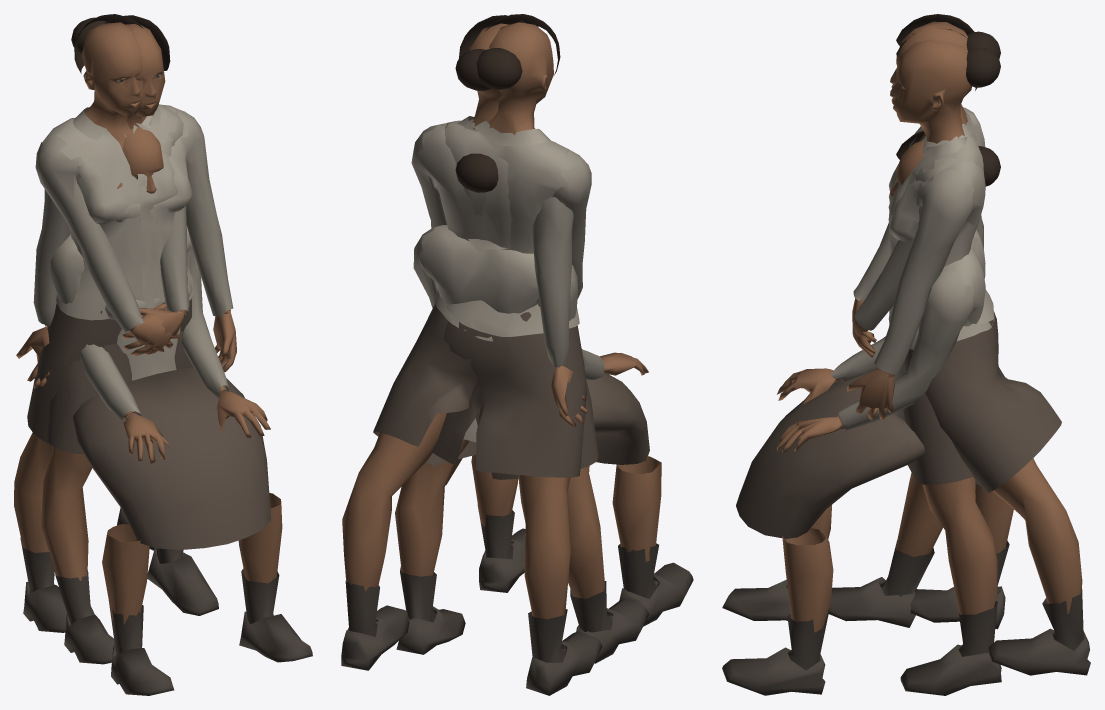
Rendered from crowd-08-crowd.glb.
The picture shows the model from 3 angles, left to right: view 1: azimuth 30°, elevation 25°; view 2: azimuth 150°, elevation 25°; view 3: azimuth 270°, elevation 25°; orthographic projection. The views are drawn at different scales.
Visible parts, largest first — view 1: seated, standing, walking; view 2: standing, walking, seated; view 3: walking, seated, standing.
Boxes of the visible parts, x1,y1,x2,y2 form: seated: (50, 126, 312, 695); standing: (14, 14, 218, 632); walking: (16, 15, 236, 664); standing: (395, 14, 602, 695); walking: (341, 15, 648, 670); seated: (413, 153, 693, 626); walking: (828, 28, 1090, 675); seated: (722, 130, 1000, 695); standing: (852, 14, 1013, 695).
Bounding box in the file's own units: 0.509 × 1.62 × 0.8621.
